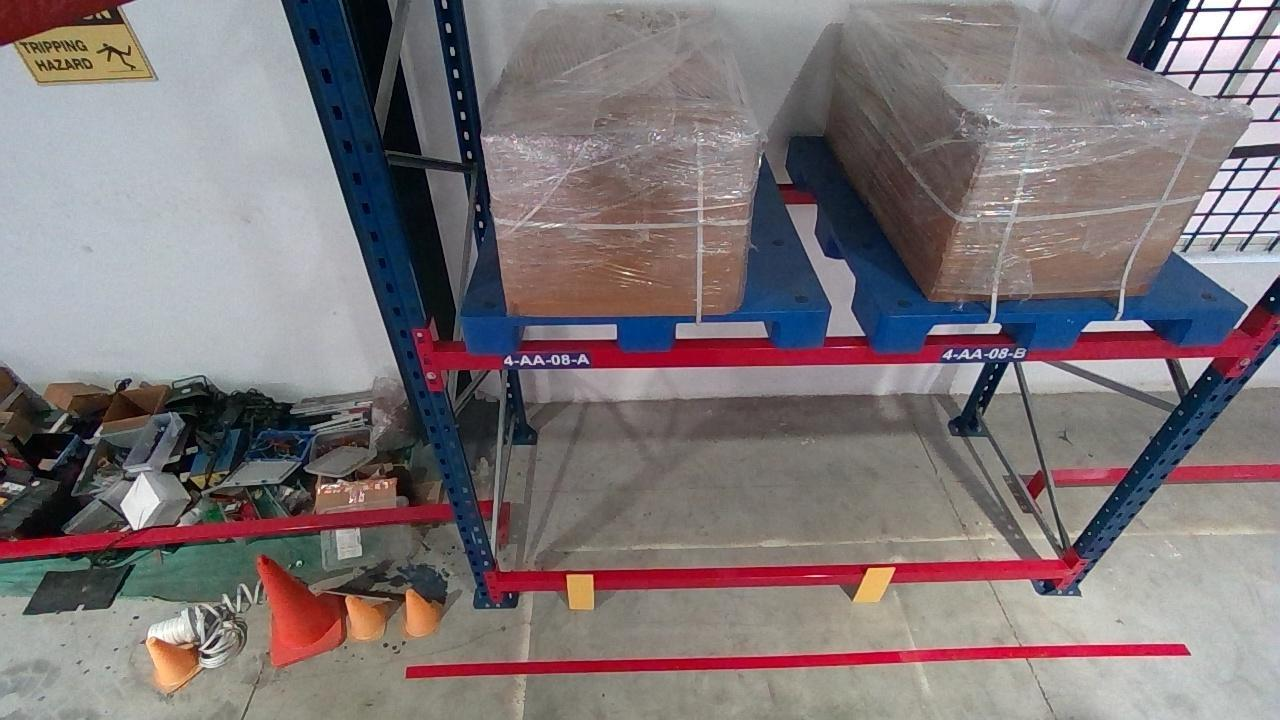h_rack: (439, 339, 1250, 367), (500, 565, 1069, 591)
orange_strip: (851, 566, 896, 603), (567, 574, 594, 608)
red_line: (404, 640, 1185, 678)
small_pallet: (463, 312, 829, 351), (874, 309, 1235, 347)
